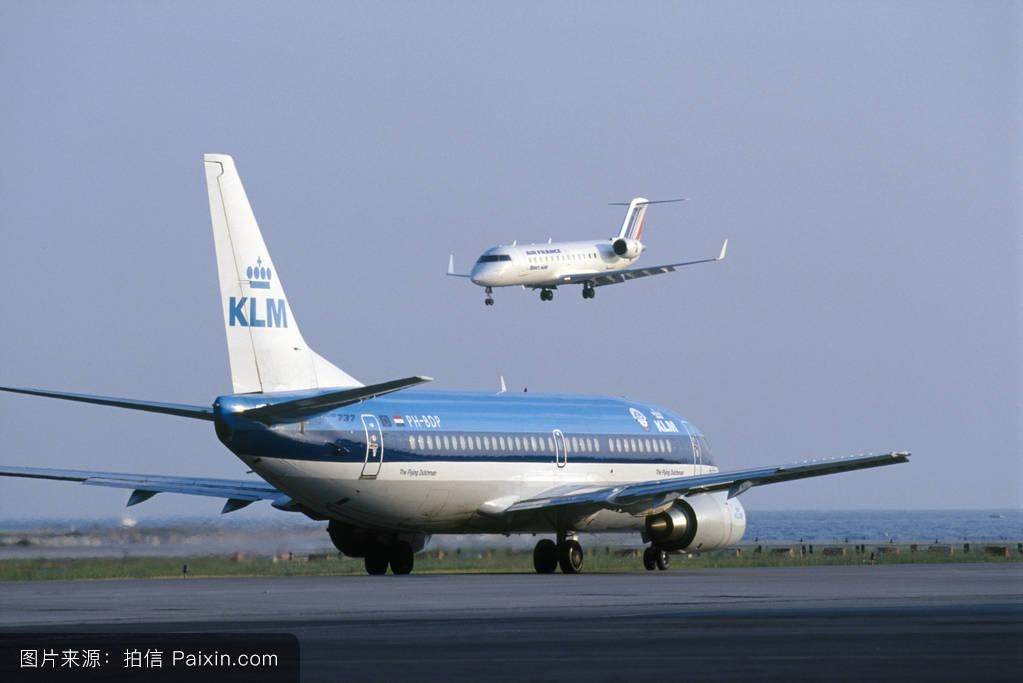airplane: (10, 152, 918, 573), (442, 197, 741, 307)
